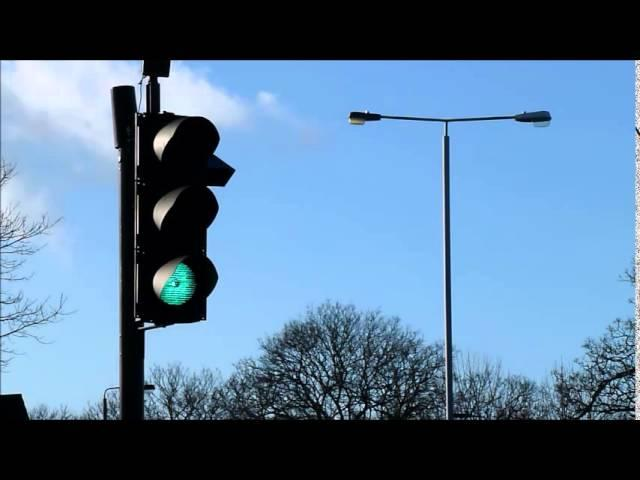green_light: (136, 113, 219, 325)
